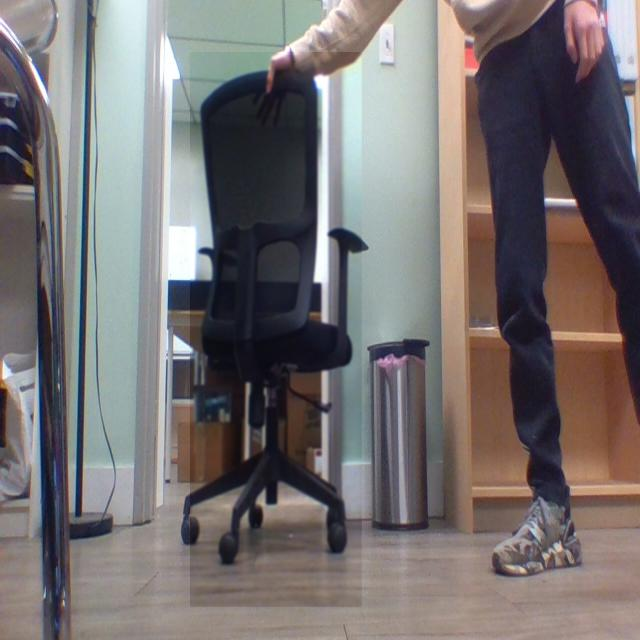black-chair: (190, 52, 363, 608)
